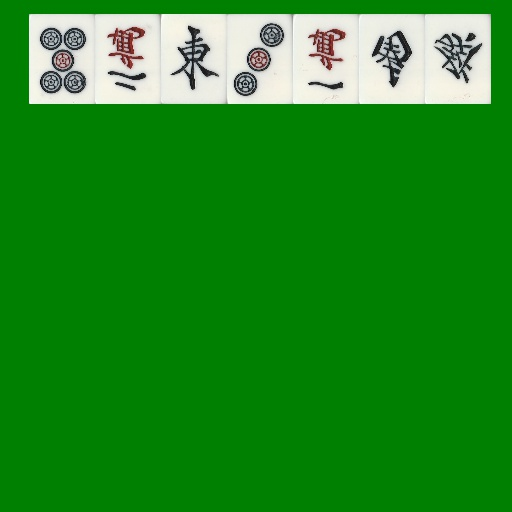1m: (293, 14, 359, 104)
2m: (95, 14, 161, 104)
3p: (227, 14, 293, 104)
5p: (29, 14, 95, 104)
east: (161, 14, 227, 104)
hatsu: (425, 14, 491, 104)
south: (359, 14, 425, 104)
